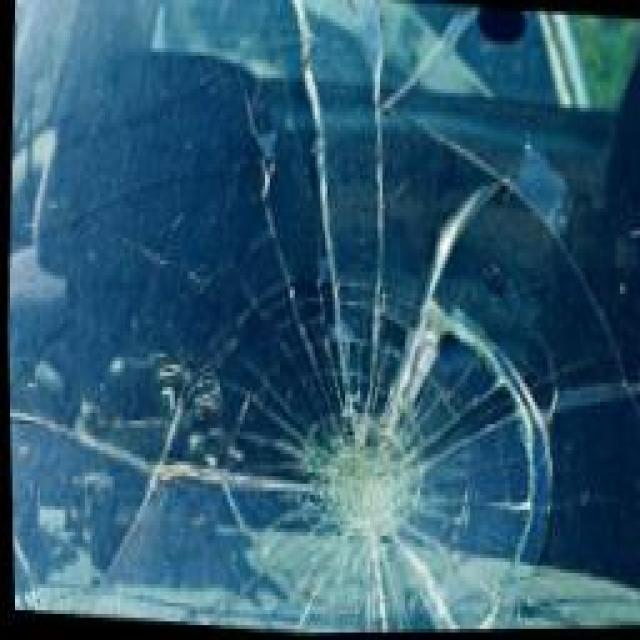Windshield: (6, 0, 640, 634)
